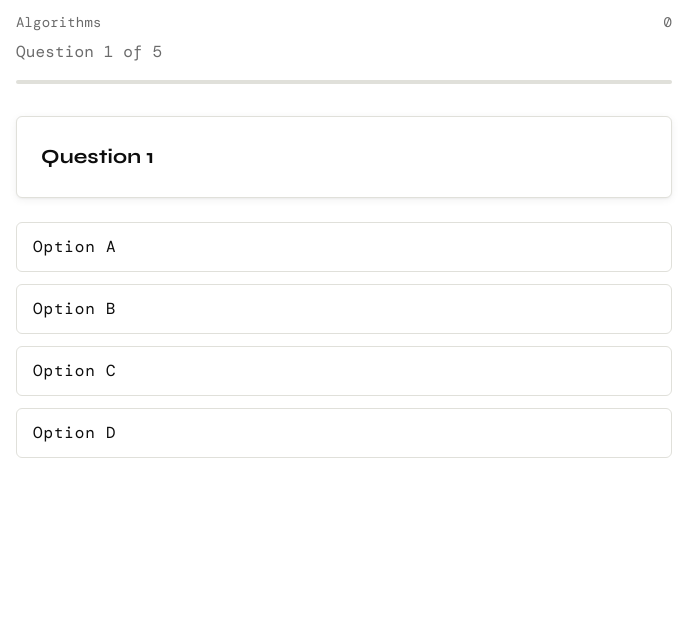
Test: QuizScreen — answer selection › locks options after an answer is selected
Click the button "Option A" at (75, 247), box [16, 222, 672, 272]
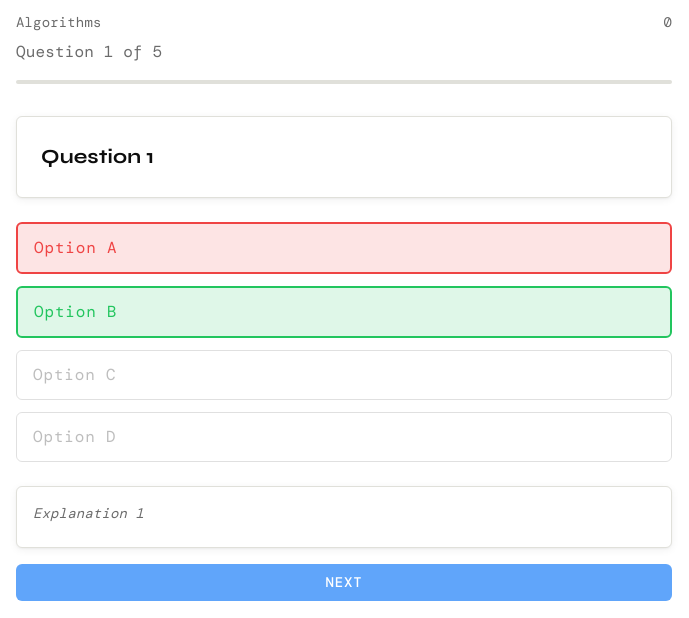
expect the button "Option A" is disabled: met, box [16, 222, 672, 274]
expect the button "Option B" is disabled: met, box [16, 286, 672, 338]
expect the button "Option C" is disabled: met, box [16, 350, 672, 400]
